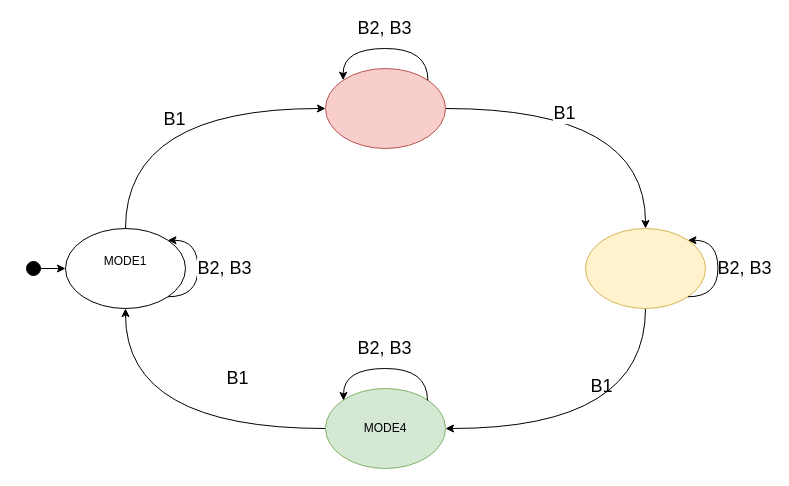
The diagram is 789 pixels wide and 486 high, and some of its shapes have lost their labels. Here are the shapes that lost their labels. From the top down, the centre of each, then its label:
At (385,108): "MODE2".
At (645,268): "MODE3".
